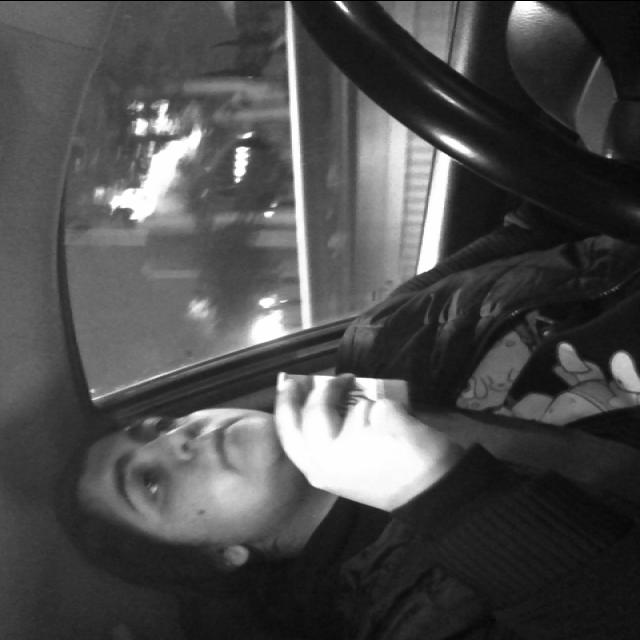drinking: (272, 367, 413, 435)
